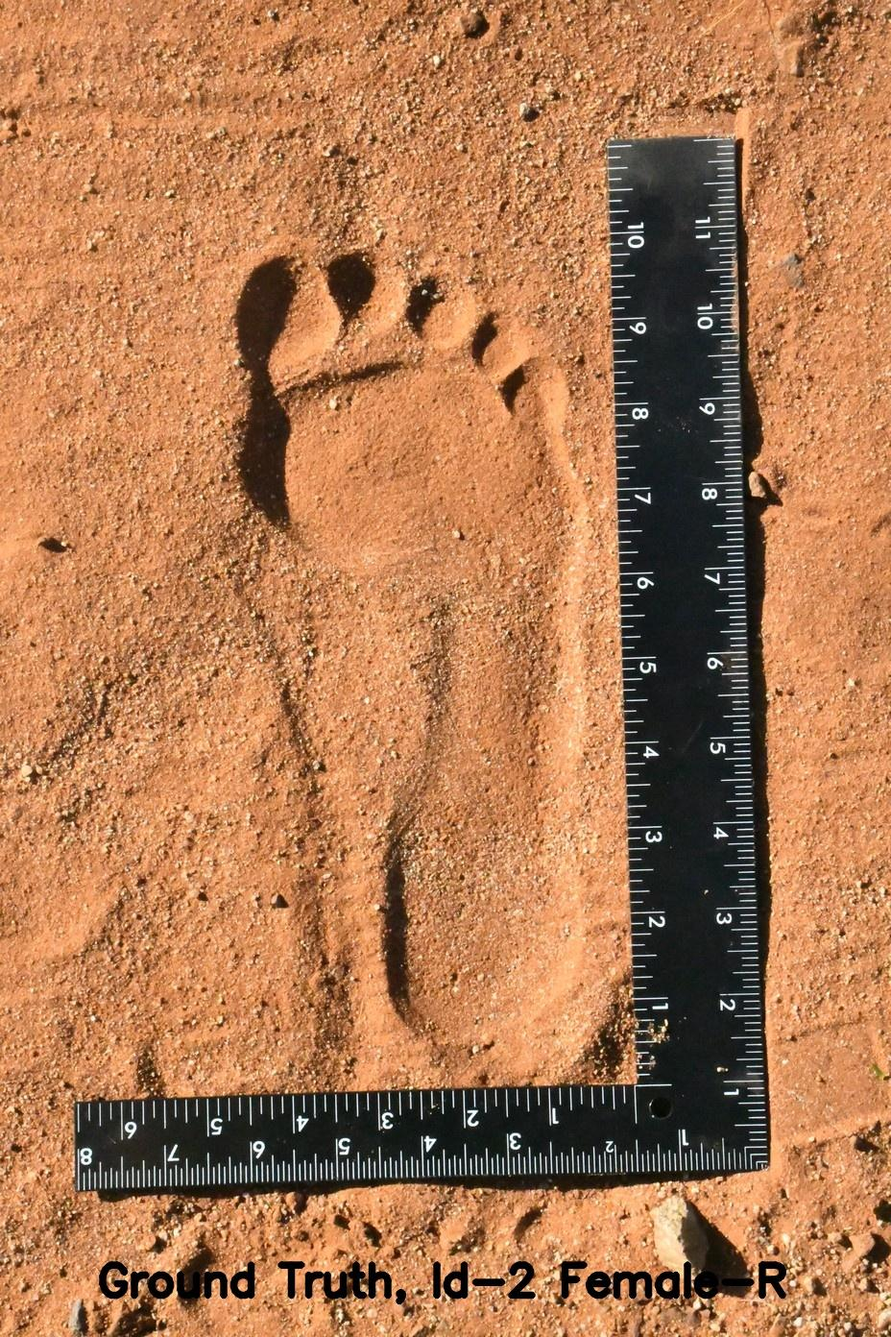human_foot_print: (173, 215, 627, 1072)
